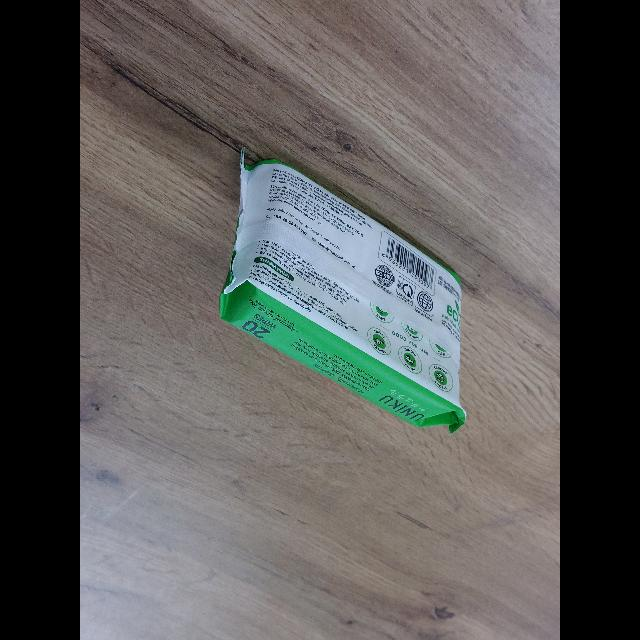khan_giay: (219, 148, 467, 432)
